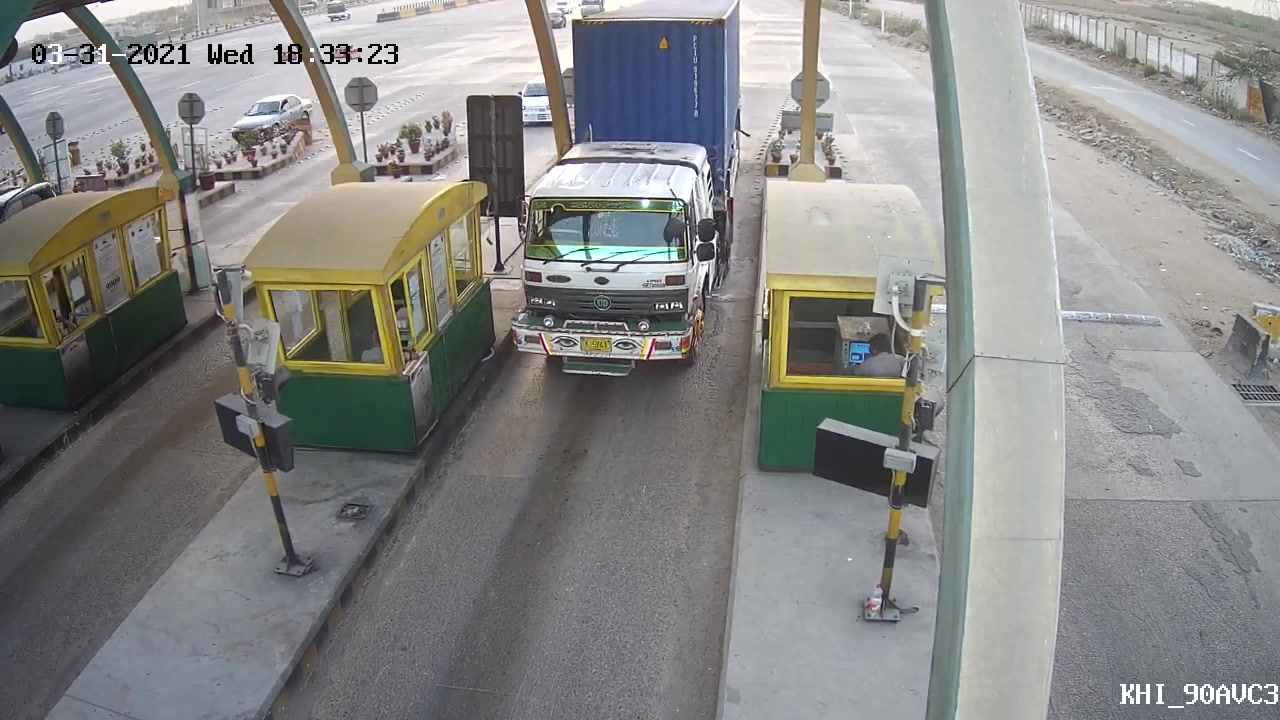F6: (503, 6, 754, 398)
